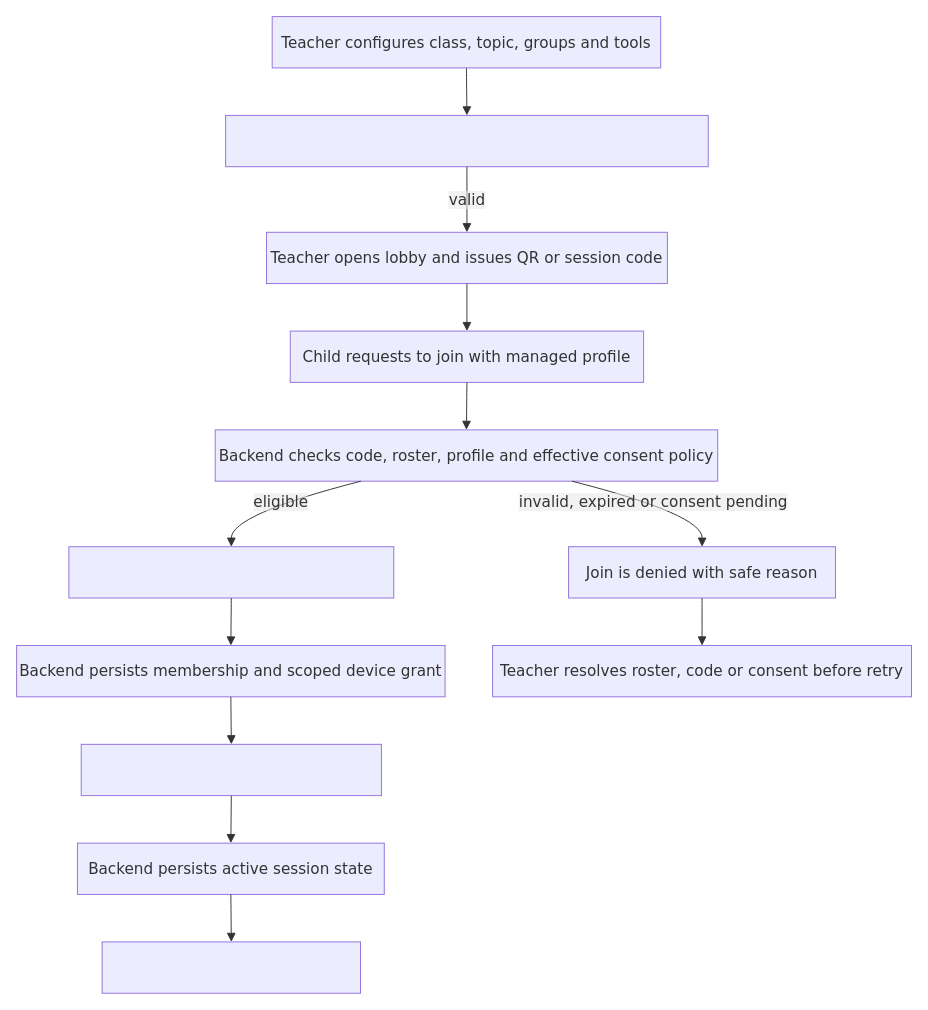
Some shapes in this 928 by 1010 pixel diagram are drawn without their labels. The centre of each missing label's shape, as x and y in pixels:
"Backend checks assignment, configuration and current version" goes at [466,140].
"Child enters admitted session" goes at [231,967].
"Teacher explicitly starts the session" goes at [230,769].
"Teacher verifies and admits participant" goes at [231,572].
